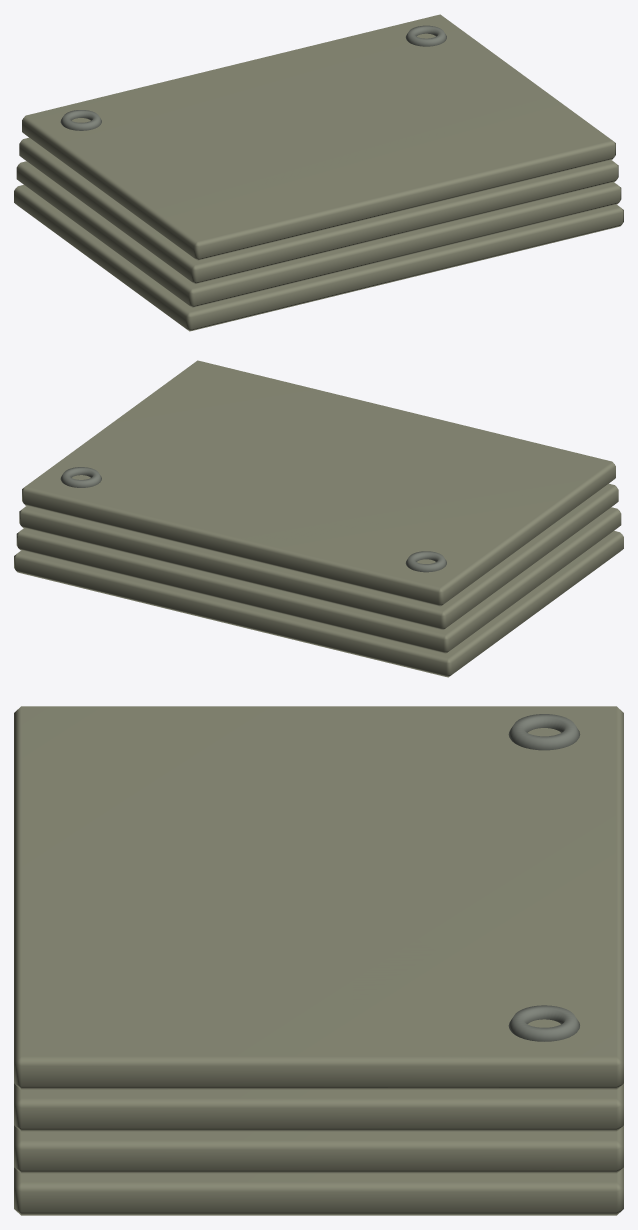
File: FoldedTarp02.fbx
3 renders of one model, top to bottom at view 1: azimuth 30°, elevation 25°; view 2: azimuth 150°, elevation 25°; view 3: azimuth 270°, elevation 25°, orthographic. The views are drawn at different scales.
Parts seen in each view (by area): view 1: FoldedTarp02; view 2: FoldedTarp02; view 3: FoldedTarp02.
Part boxes in pixels (left/top/right/bottom): FoldedTarp02: left=14, top=14, right=623, bottom=331; FoldedTarp02: left=14, top=360, right=623, bottom=677; FoldedTarp02: left=14, top=706, right=623, bottom=1215.
Size of the model in its own units: 66 by 13.41 by 46.
